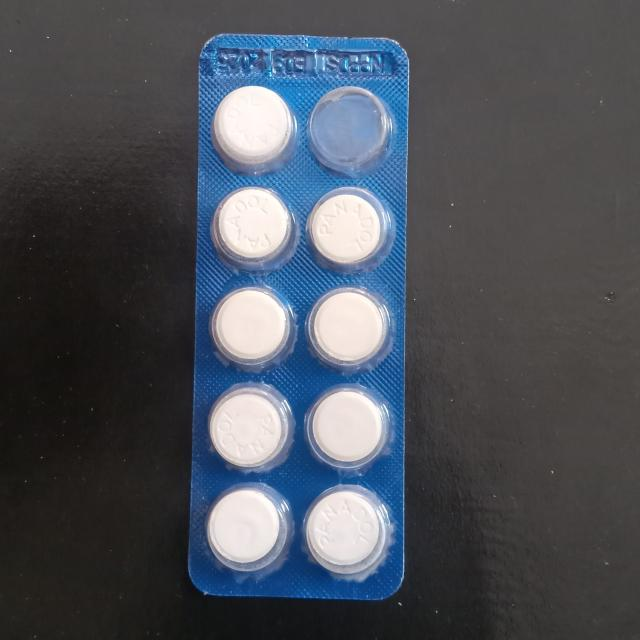defect: (304, 84, 400, 175)
